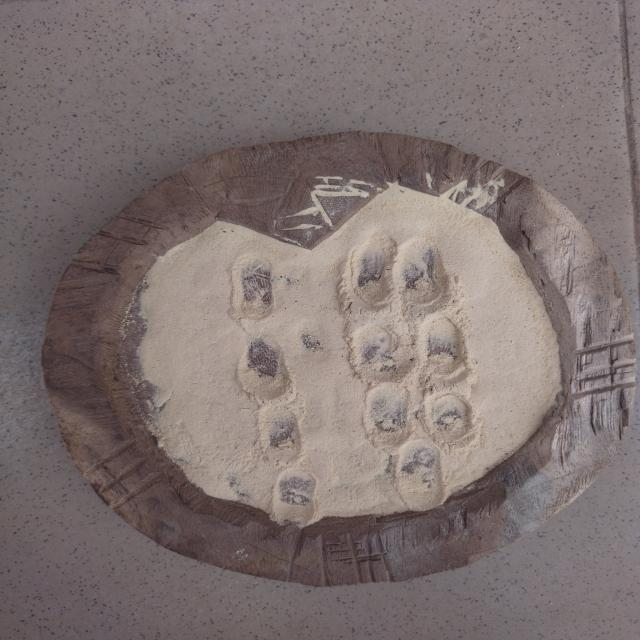double: (340, 310, 474, 386), (342, 231, 459, 317), (353, 383, 482, 448)
single: (230, 340, 300, 408), (394, 439, 454, 514), (230, 248, 278, 330), (254, 401, 305, 468), (268, 468, 324, 526)
